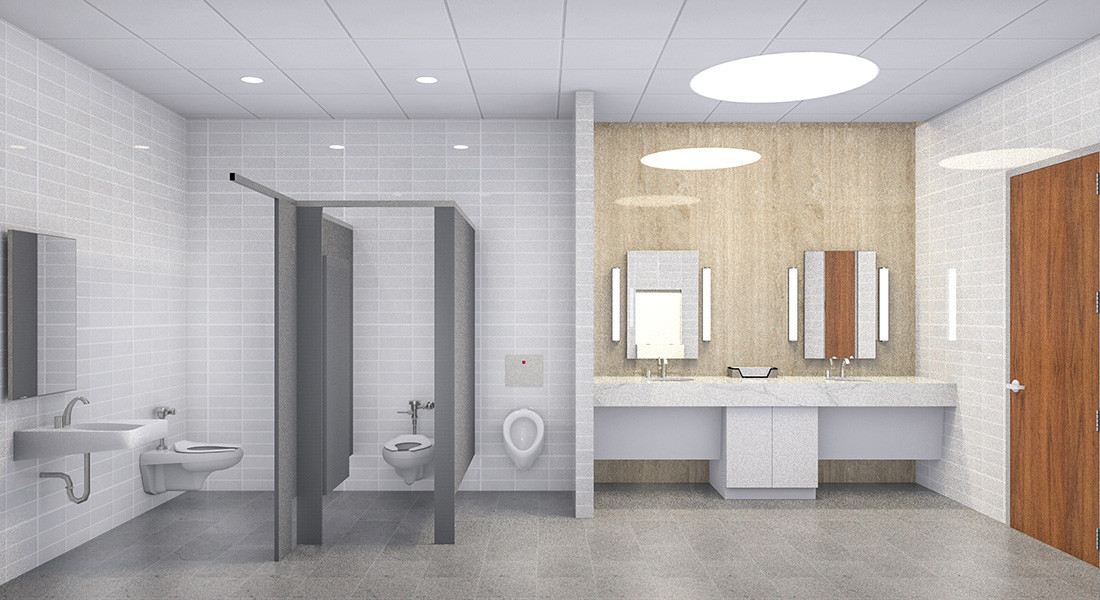countertop: (593, 374, 961, 406)
door_handle: (1005, 379, 1025, 393)
faucet: (52, 395, 90, 428), (822, 358, 853, 377), (644, 357, 672, 378)
sink: (11, 418, 168, 461), (825, 378, 873, 382), (649, 378, 695, 381)
toilet: (138, 439, 244, 494), (501, 409, 546, 470), (384, 434, 431, 484)
toilet_handle: (397, 409, 412, 415)
